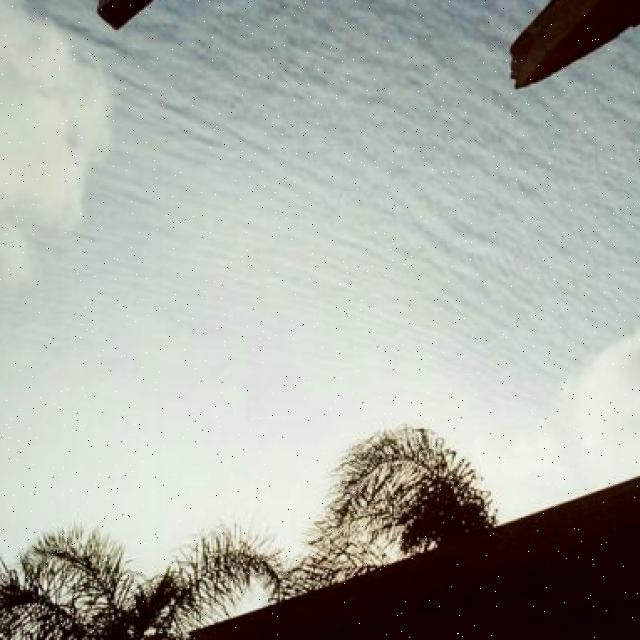Cc: (1, 50, 640, 355)
